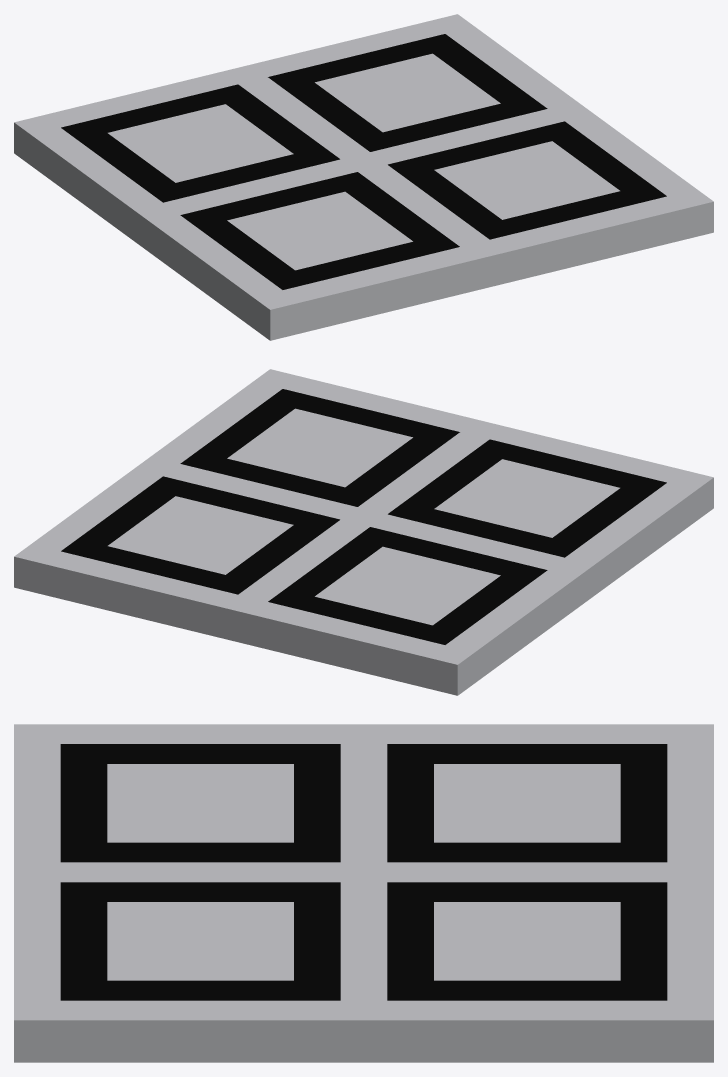
Rendered from dungeon_d_b_ground_c_a.obj.
3 renders of one model, top to bottom at view 1: azimuth 30°, elevation 25°; view 2: azimuth 150°, elevation 25°; view 3: azimuth 270°, elevation 25°, orthographic. The views are drawn at different scales.
Bounding box in the file's own units: 1.5 × 0.1 × 1.5.
Materials: 1 (1 with a texture image).
